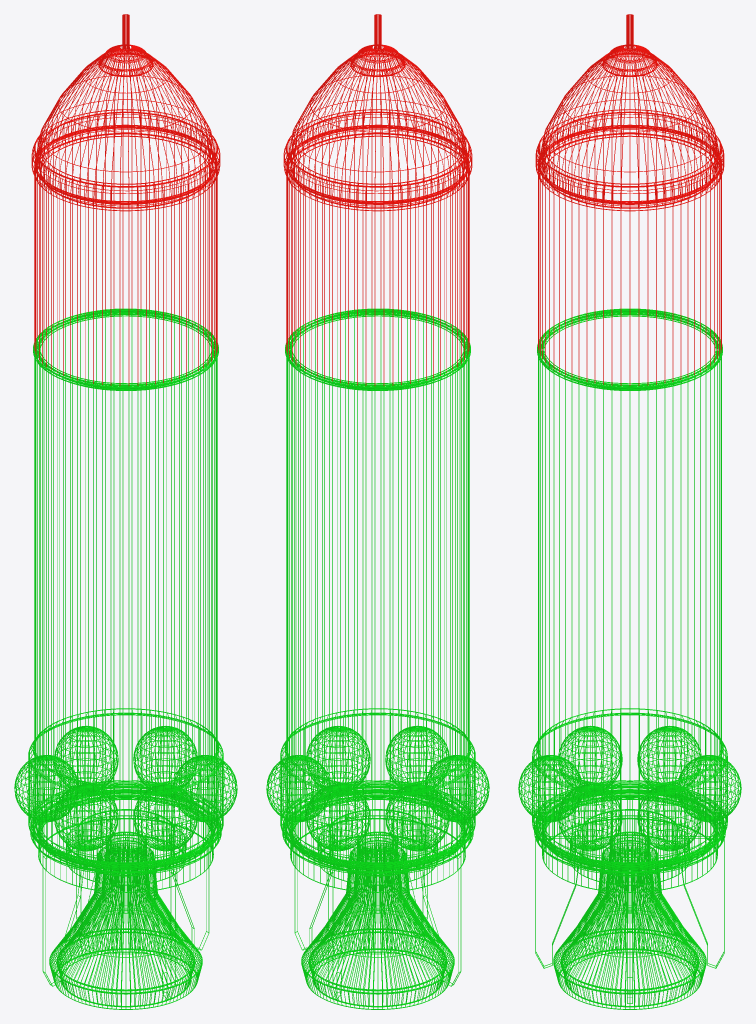
The model's file is stasis-missile-highlight-navigation-and-targeting.glb.
3 views of the same model, side by side, from view 1: azimuth 30°, elevation 25°; view 2: azimuth 150°, elevation 25°; view 3: azimuth 270°, elevation 25° (orthographic).
Parts seen in each view (by area): view 1: chassis technical wire, navigation-and-targeting technical wire, main-thruster technical wire, tachyon-dispersion-pods technical wire; view 2: chassis technical wire, navigation-and-targeting technical wire, main-thruster technical wire, tachyon-dispersion-pods technical wire; view 3: chassis technical wire, navigation-and-targeting technical wire, main-thruster technical wire, tachyon-dispersion-pods technical wire.
Boxes of the visible parts, x1,y1,x2,y2 form: chassis technical wire: (28,308,223,999); navigation-and-targeting technical wire: (31,14,220,386); main-thruster technical wire: (49,815,202,1009); tachyon-dispersion-pods technical wire: (14,725,237,851); chassis technical wire: (280,308,475,999); navigation-and-targeting technical wire: (283,14,472,386); main-thruster technical wire: (301,815,454,1009); tachyon-dispersion-pods technical wire: (266,725,489,851); chassis technical wire: (532,308,727,1003); navigation-and-targeting technical wire: (535,14,724,385); main-thruster technical wire: (553,815,706,1009); tachyon-dispersion-pods technical wire: (518,725,741,851).
Size of the model in its own units: 1.2 by 6.31 by 1.32.
